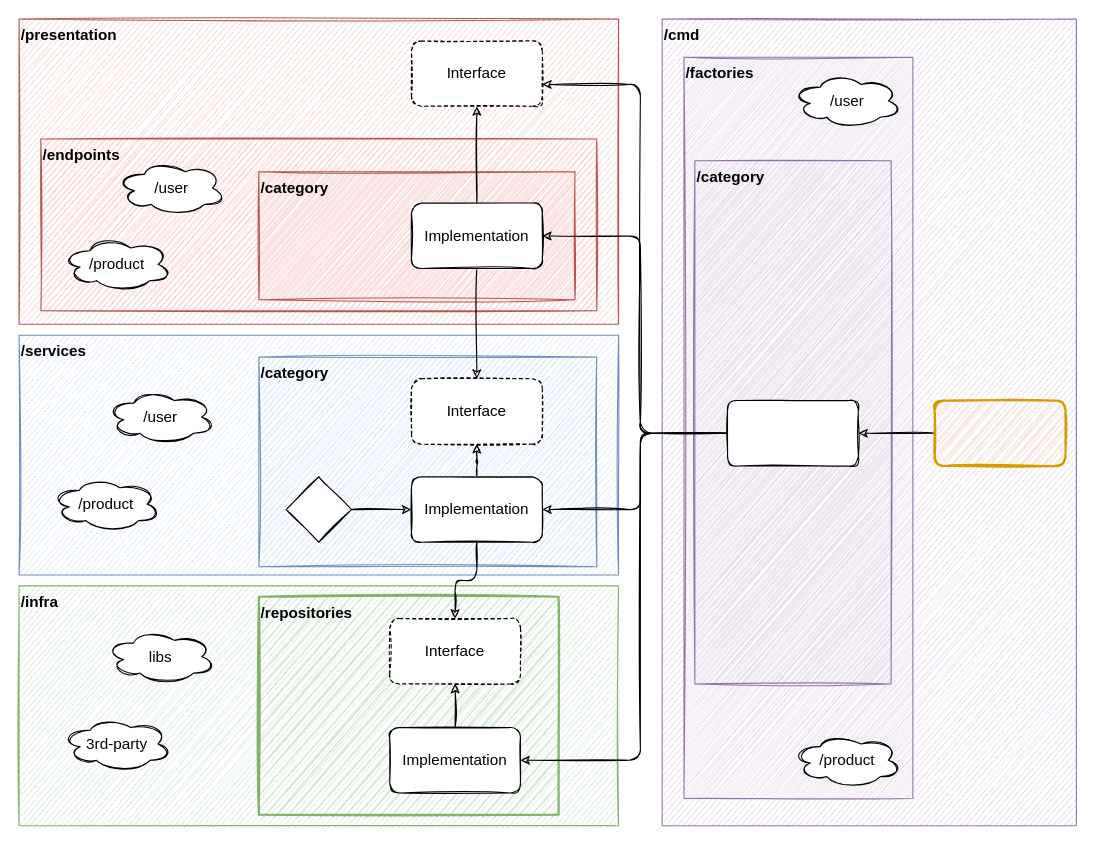
Some shapes in this 1095 by 845 pixel diagram are drawn without their labels. Each missing label, with the centre of its shape:
Endpoint's Factory: the point at 792,432
Entrypoint: the point at 999,433
Tests: the point at 318,509
